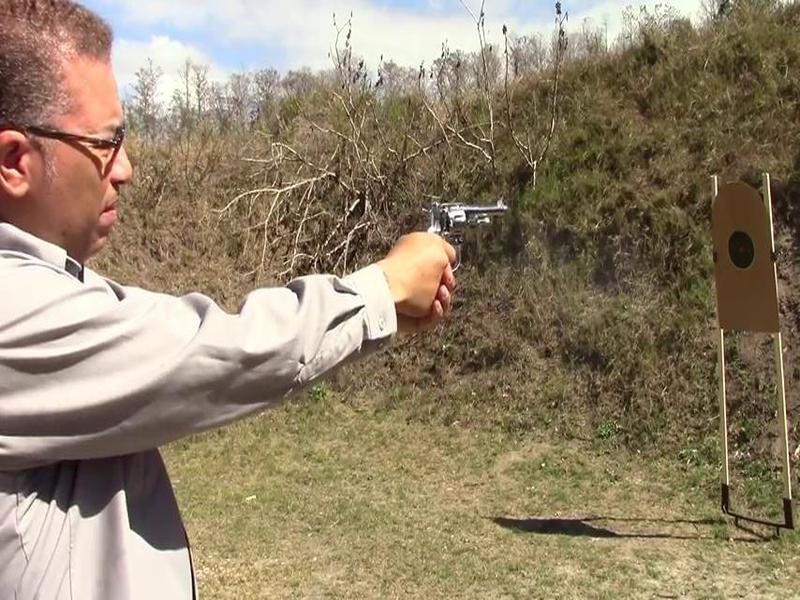Revolver: (412, 189, 517, 280)
